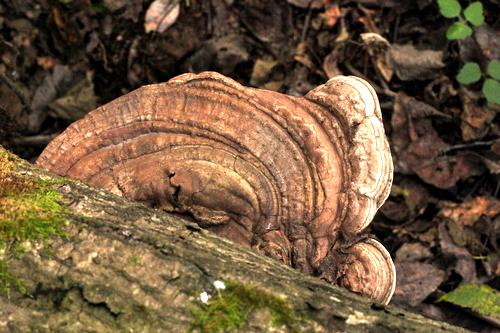Ganoderma - Fruit Body: (30, 68, 402, 312)
